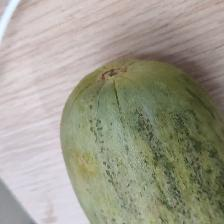gua: (75, 61, 199, 217)
